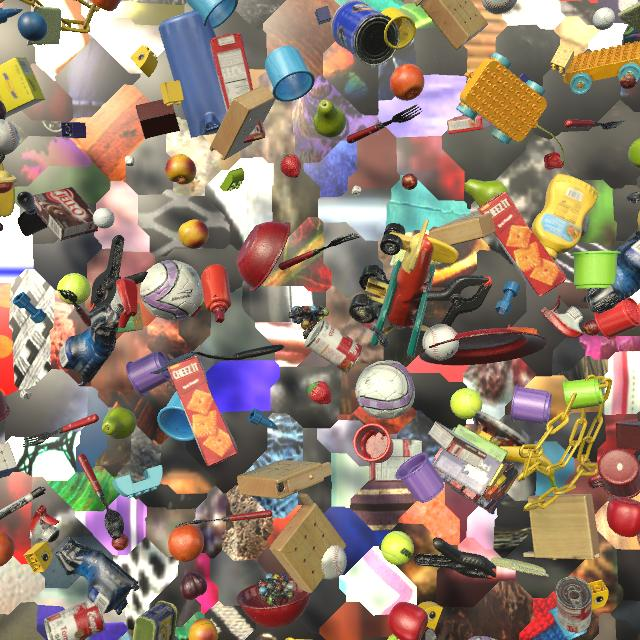ycb_002_master_chef_can: (331, 0, 400, 66)
ycb_003_cracker_box: (477, 191, 567, 296), (167, 356, 238, 466), (210, 34, 265, 143)
ycb_004_sugar_box: (0, 57, 45, 117)
ycb_005_tomato_soup_can: (305, 320, 363, 373), (44, 600, 105, 640), (555, 576, 592, 633), (581, 215, 589, 236)
ycb_006_mustard_bottle: (532, 174, 598, 260), (638, 211, 640, 230)
ycb_007_tuna_fish_can: (466, 72, 473, 83)
ycb_008_pudding_box: (33, 187, 98, 241), (428, 421, 487, 467), (369, 438, 423, 482)
ycb_009_gelatin_box: (447, 115, 492, 134), (506, 227, 532, 256)
ycb_010_potted_meat_can: (132, 600, 178, 640)
ycb_011_banana: (501, 446, 557, 487)
ycb_012_strawberry: (308, 381, 331, 404), (280, 154, 301, 178)
ycb_013_apple: (388, 602, 428, 640), (607, 497, 640, 537)
ycb_015_peach: (165, 154, 196, 185), (178, 219, 209, 249), (188, 618, 218, 640)
ycb_016_pear: (313, 99, 346, 138), (464, 179, 509, 207), (102, 407, 137, 440), (628, 138, 640, 169)
ycb_017_orange: (168, 524, 204, 562), (390, 64, 424, 101), (0, 531, 15, 567)
ycb_018_plum: (180, 572, 207, 600), (0, 100, 6, 120)
